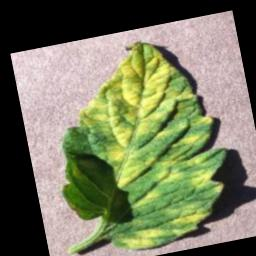Leaf_Mold: (67, 32, 221, 194), (112, 224, 169, 254), (165, 198, 214, 229), (188, 163, 227, 197), (153, 152, 190, 187), (129, 186, 166, 210)
